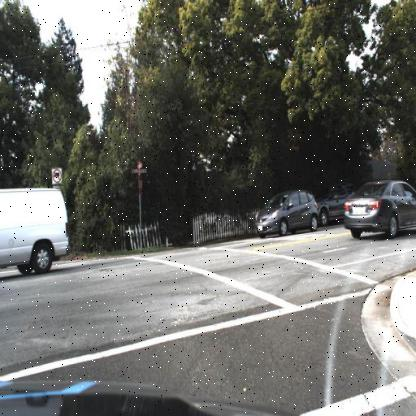car: (0, 188, 71, 277), (345, 179, 415, 242), (256, 186, 318, 238), (318, 178, 347, 228)
